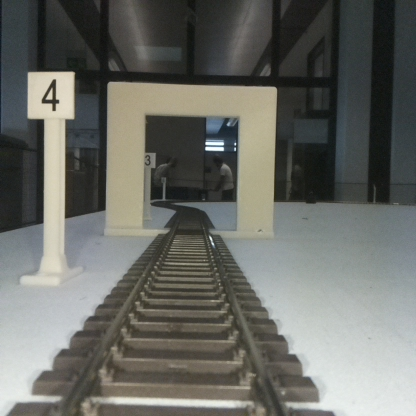white-info-3: (143, 152, 155, 220)
white-info-4: (27, 70, 74, 284)
